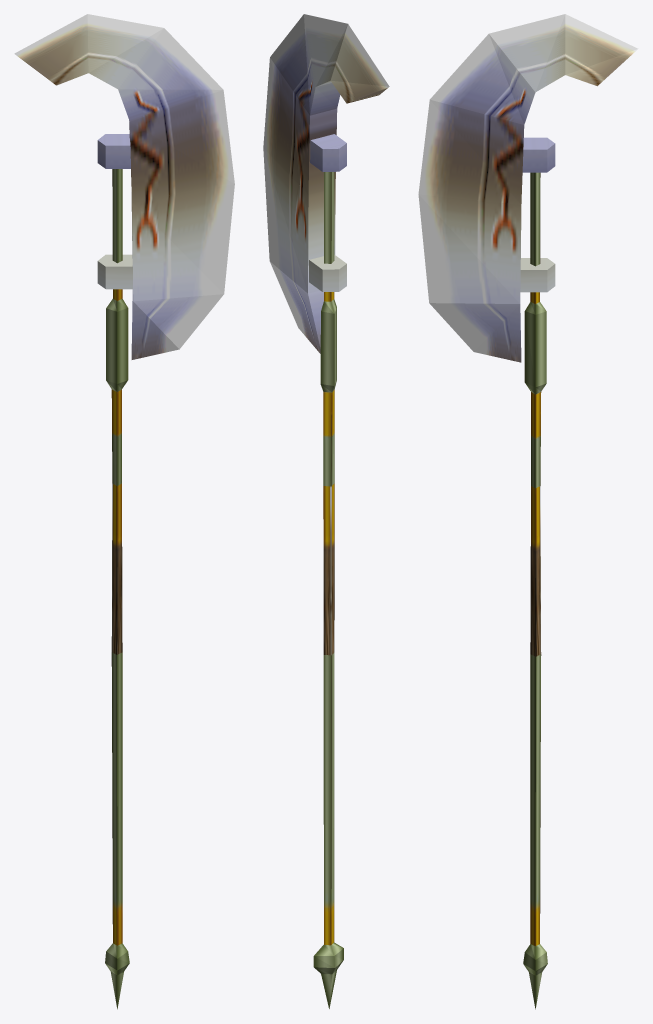
Rendered from longarm09.obj.
3 views of the same model, side by side, from view 1: azimuth 90°, elevation 25°; view 2: azimuth 210°, elevation 25°; view 3: azimuth 270°, elevation 25° (orthographic).
Parts seen in each view (by area): view 1: longarm09; view 2: longarm09; view 3: longarm09.
Part boxes in pixels (x1,y1,x2,y2): longarm09: (14,14,234,1009); longarm09: (263,14,389,1008); longarm09: (418,14,638,1009).
Bounding box in the file's own units: 0.09 × 2.44 × 0.4887.
